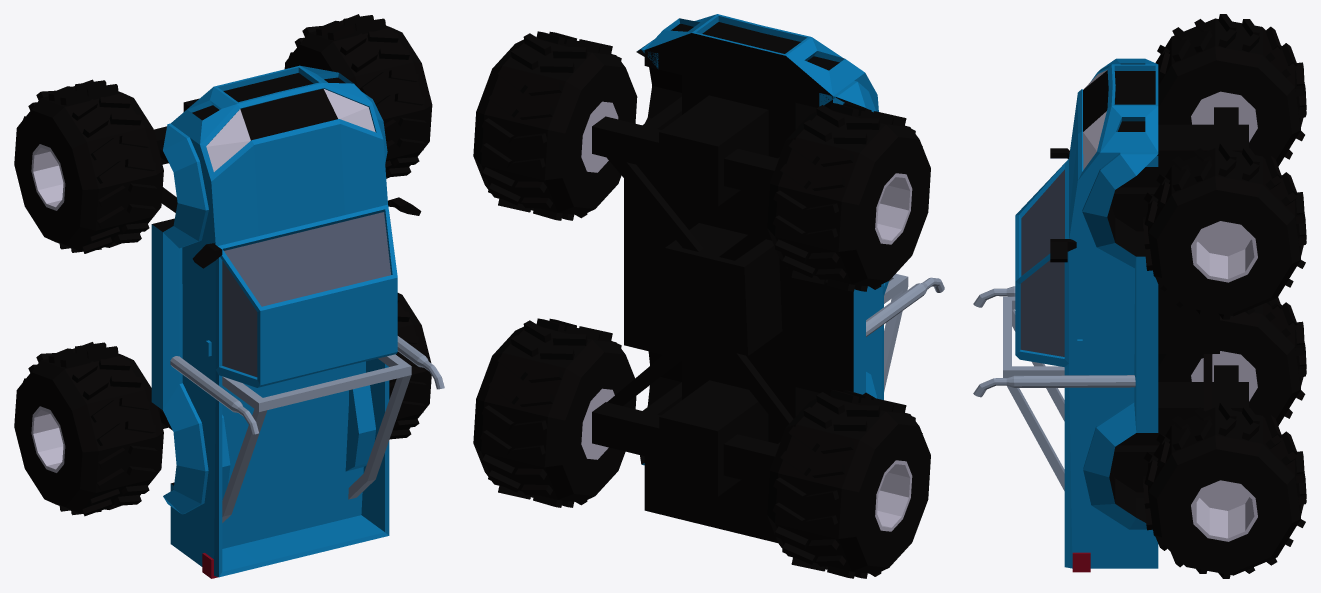
File: Monster_Truck.glb
The picture shows the model from 3 angles, left to right: view 1: azimuth 30°, elevation 25°; view 2: azimuth 150°, elevation 25°; view 3: azimuth 270°, elevation 25°; orthographic projection. The views are drawn at different scales.
Parts seen in each view (by area): view 1: Mesh_0; view 2: Mesh_0; view 3: Mesh_0.
Boxes of the visible parts, bbox=[...] form: Mesh_0: bbox=[14, 14, 444, 578]; Mesh_0: bbox=[473, 14, 944, 578]; Mesh_0: bbox=[973, 14, 1306, 578].
Size of the model in its own units: 4.47 by 5.49 by 3.73.
